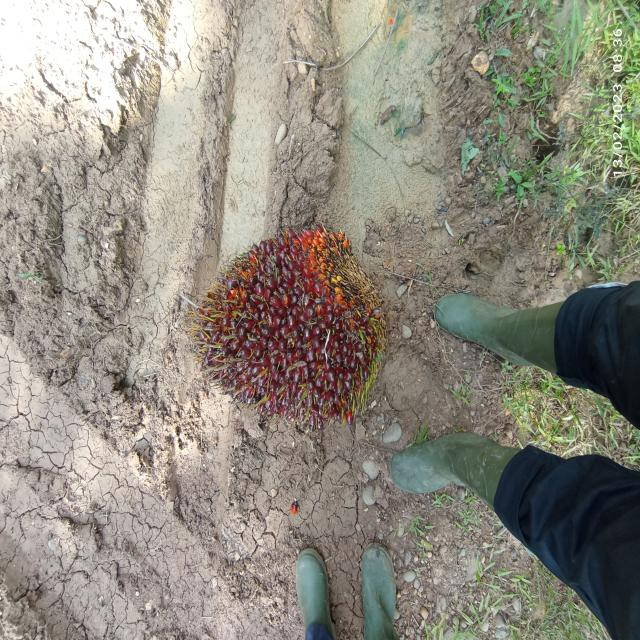fraksi 1: (167, 194, 397, 440)
